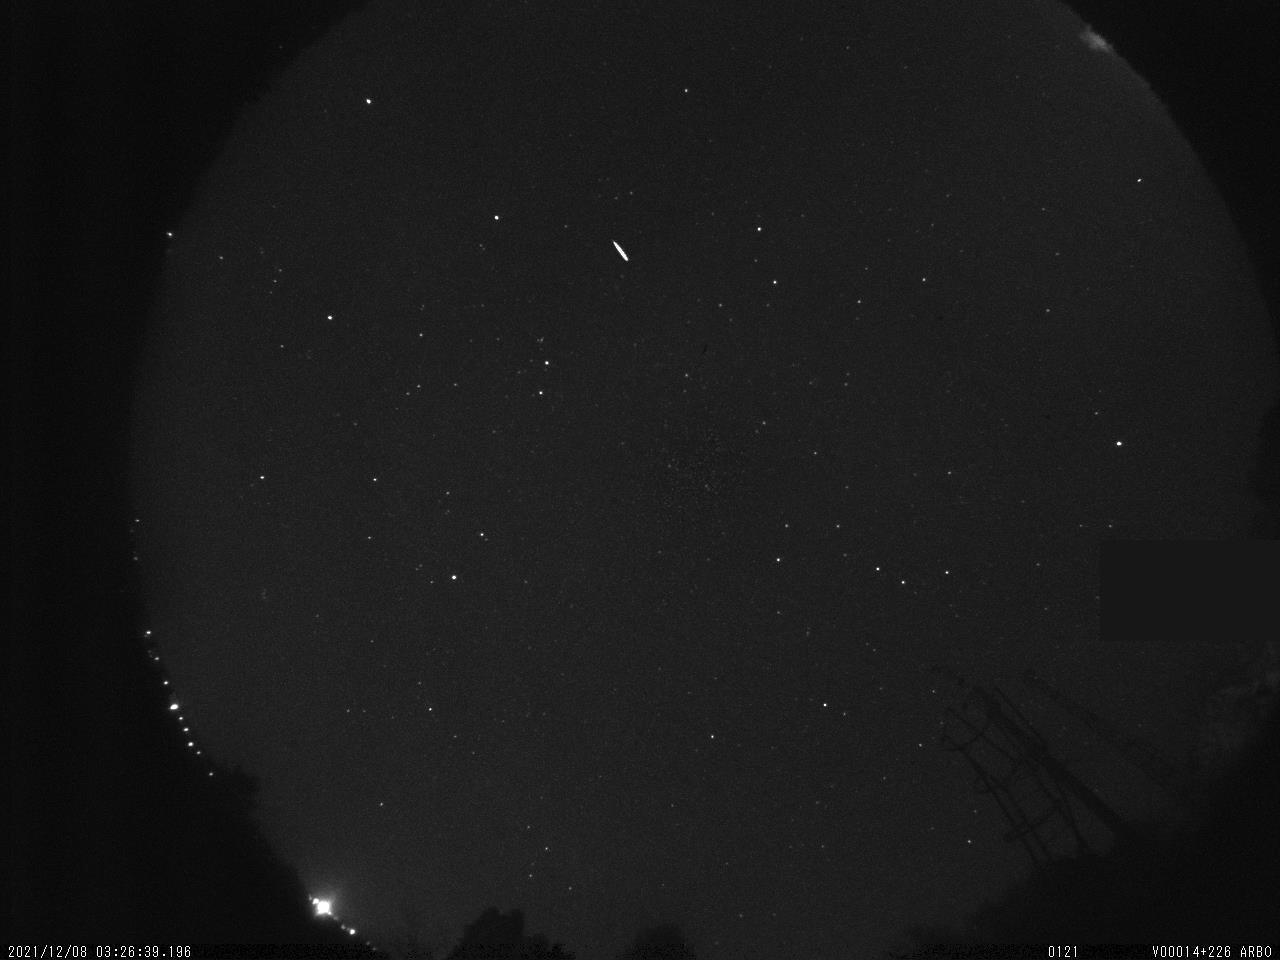meteor: (588, 231, 668, 281)
